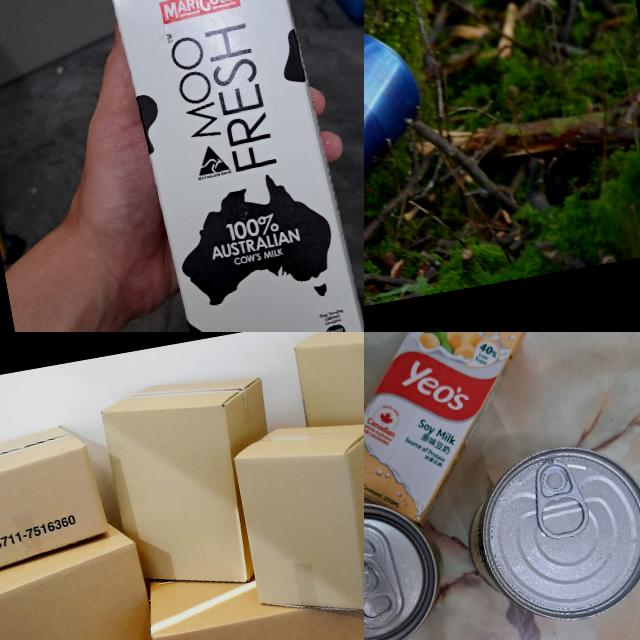aba de lata: (528, 454, 592, 542), (364, 549, 407, 633)
caixinha: (97, 0, 364, 332), (364, 332, 564, 537)
lata: (451, 435, 640, 636), (364, 17, 451, 316), (364, 486, 453, 640)
papelão: (96, 363, 296, 603), (227, 406, 364, 628), (142, 519, 364, 640), (0, 497, 177, 640), (0, 418, 113, 582), (289, 332, 364, 576)
